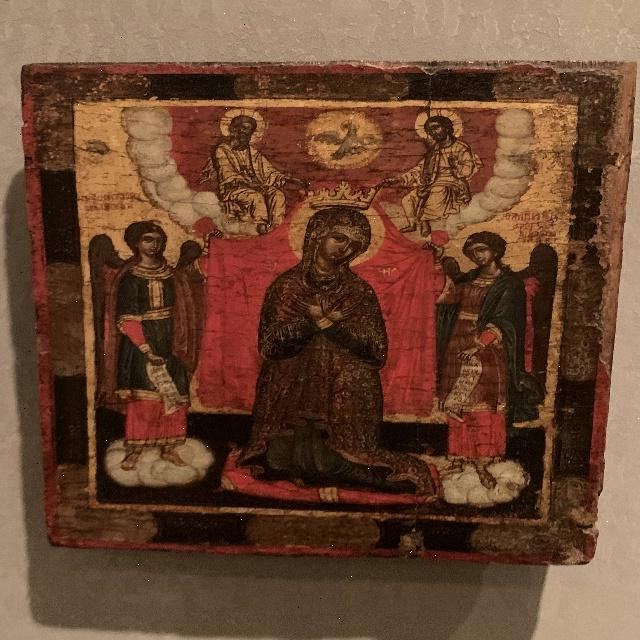angel: (90, 210, 224, 487), (416, 221, 543, 491)
aura: (284, 196, 384, 269), (454, 223, 532, 271), (116, 210, 189, 259), (413, 109, 467, 143), (222, 106, 270, 143)
cloud: (120, 106, 204, 226), (423, 447, 532, 504), (114, 427, 217, 485), (494, 115, 544, 218)
crown: (300, 186, 381, 212)
dove: (302, 110, 383, 168)
mary: (241, 183, 396, 486)
saint: (201, 106, 301, 224), (395, 108, 472, 231)
wing: (428, 257, 466, 371), (98, 235, 121, 399), (523, 244, 545, 395), (175, 240, 209, 280)
